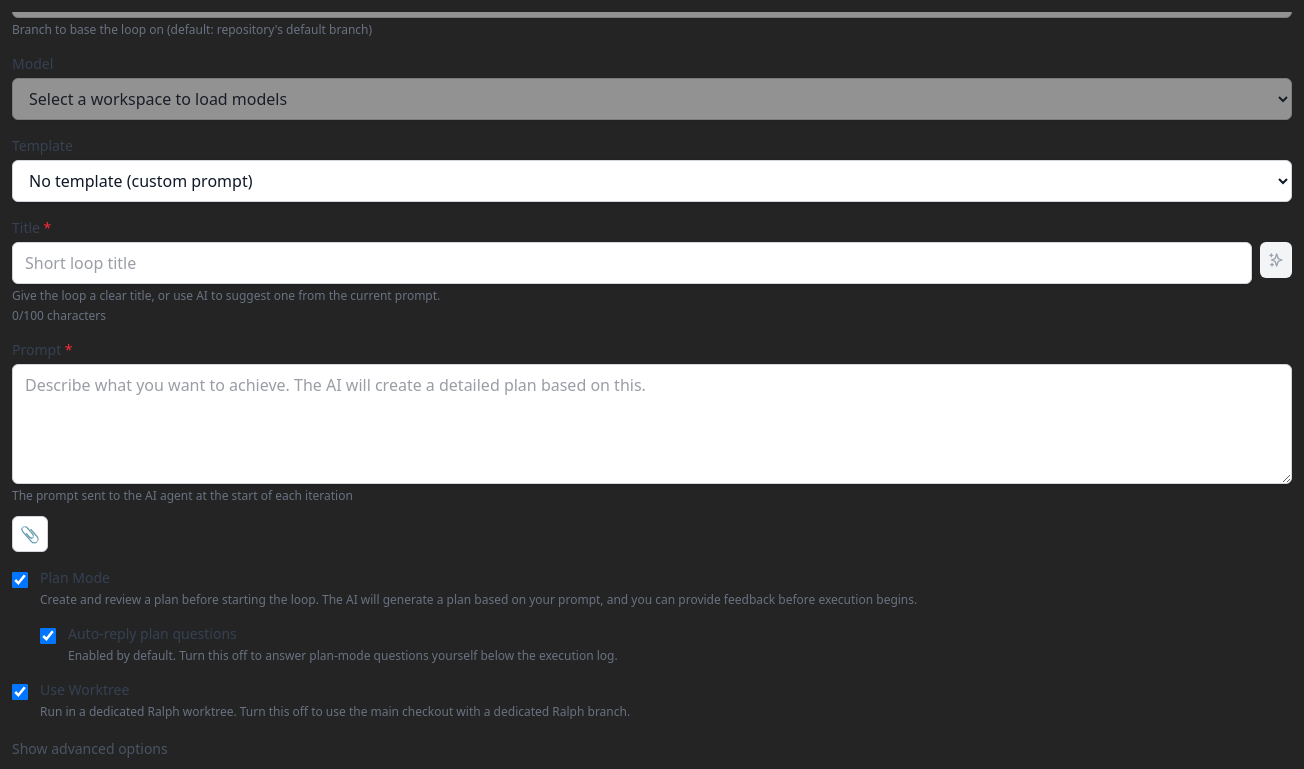
Test: CreateLoopForm › advanced options › shows advanced options when toggle is clicked
(page scrolled)
What coordinates should you click on to do the following:
click the button "Show advanced options"
I would click on:
 (90, 749)
Its box is [12,739,168,759].
(page scrolled)
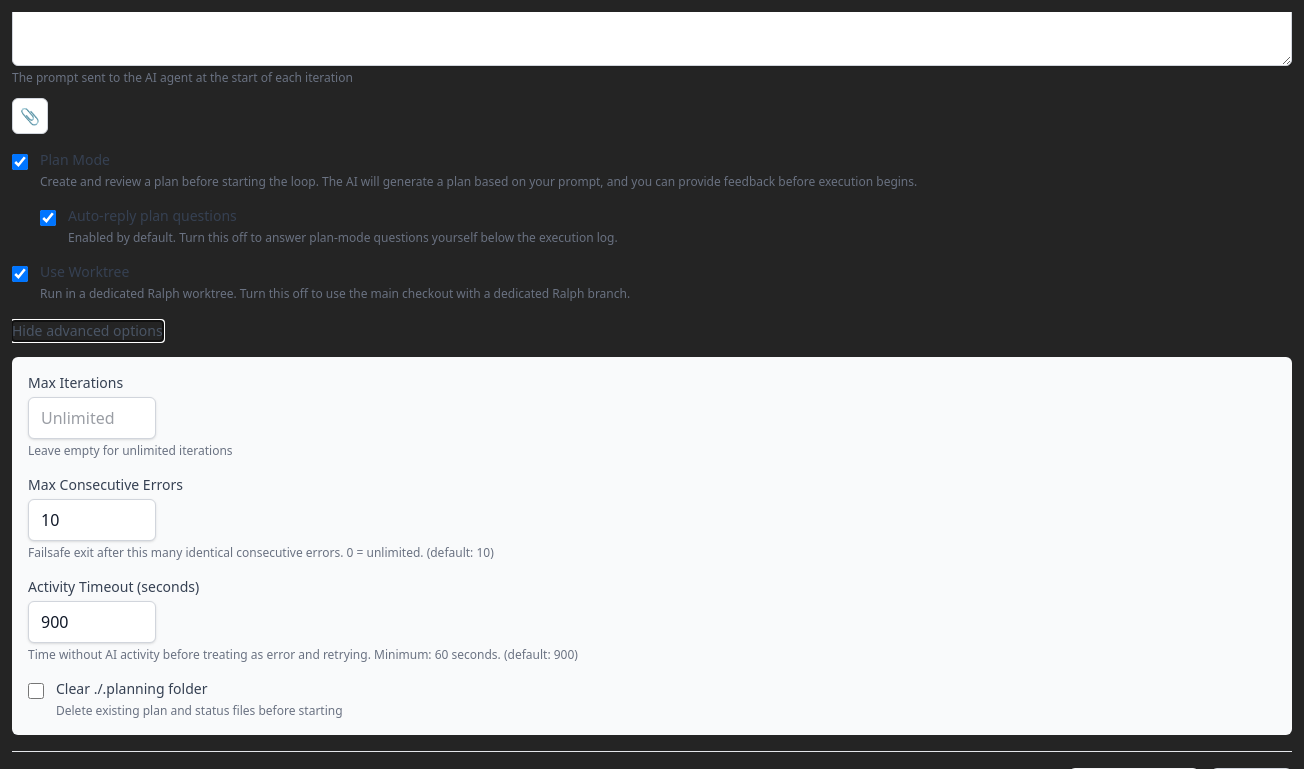
Now the number field labelled "Max Iterations" is shown, box [28,397,156,439]
Now the number field labelled "Max Consecutive Errors" is shown, box [28,499,156,541]
Now the number field labelled "Activity Timeout (seconds)" is shown, box [28,601,156,643]
